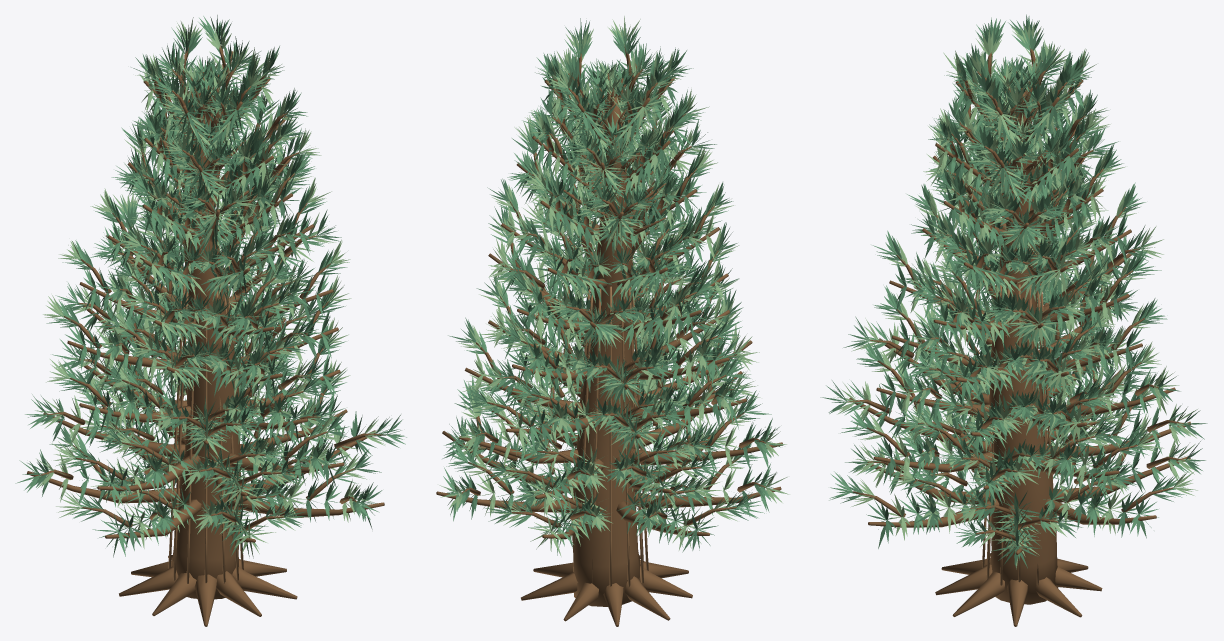
The model's file is pine.glb.
The picture shows the model from 3 angles, left to right: view 1: azimuth 30°, elevation 25°; view 2: azimuth 150°, elevation 25°; view 3: azimuth 270°, elevation 25°; orthographic projection.
Visible parts, largest first — view 1: Pine trunk and branches, Pine needles 2, Pine needles 1, Pine needles 3, Raised bark detail; view 2: Pine trunk and branches, Pine needles 3, Pine needles 2, Pine needles 1, Raised bark detail; view 3: Pine needles 1, Pine needles 3, Pine trunk and branches, Pine needles 2, Raised bark detail.
Boxes of the visible parts, x1,y1,x2,y2 form: Pine trunk and branches: [27, 45, 386, 626]; Pine needles 2: [15, 15, 406, 557]; Pine needles 1: [22, 21, 399, 553]; Pine needles 3: [33, 17, 385, 558]; Raised bark detail: [168, 283, 243, 583]; Pine trunk and branches: [436, 44, 782, 626]; Pine needles 3: [439, 16, 789, 556]; Pine needles 2: [443, 24, 783, 555]; Pine needles 1: [442, 18, 780, 552]; Raised bark detail: [573, 286, 648, 587]; Pine needles 1: [820, 14, 1207, 568]; Pine needles 3: [836, 22, 1199, 569]; Pine trunk and branches: [847, 46, 1191, 626]; Pine needles 2: [829, 17, 1197, 560]; Raised bark detail: [982, 283, 1053, 585].
Size of the model in its own units: 1.83 by 2.78 by 1.79.
